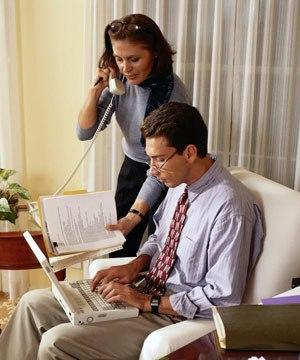person: (2, 101, 257, 360)
